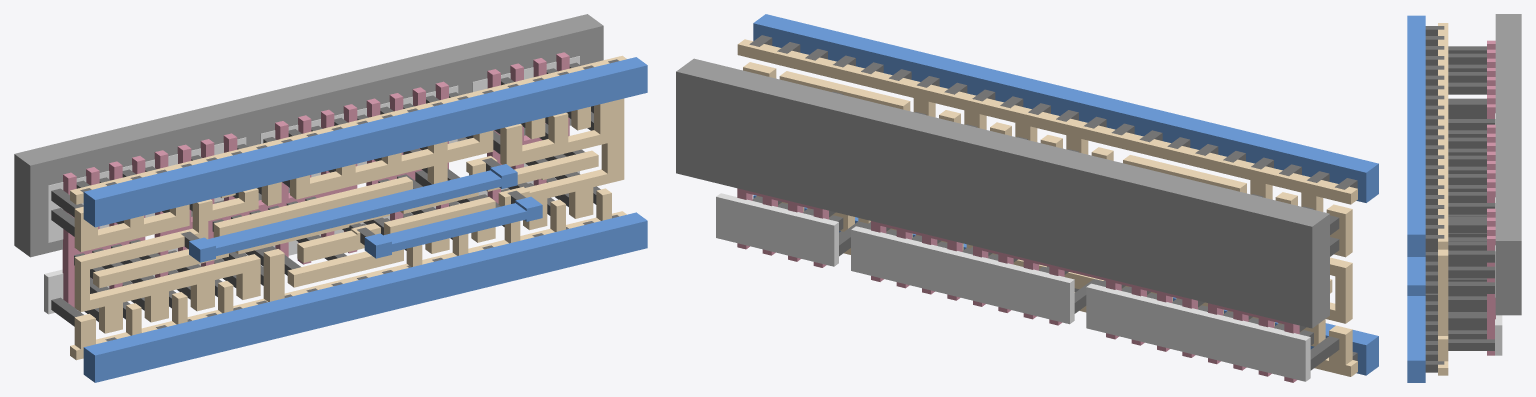
The model's file is sky130_fd_sc_hd__xor2_4.gds.gltf.
3 renders of one model, left to right at view 1: azimuth 30°, elevation 25°; view 2: azimuth 150°, elevation 25°; view 3: azimuth 270°, elevation 25°, orthographic. The views are drawn at different scales.
Visible parts, largest first — view 1: sky130_fd_sc_hd__xor2_4_met1, sky130_fd_sc_hd__xor2_4_li1, sky130_fd_sc_hd__xor2_4_nwell, sky130_fd_sc_hd__xor2_4_poly, sky130_fd_sc_hd__xor2_4_licon, sky130_fd_sc_hd__xor2_4_diff, sky130_fd_sc_hd__xor2_4_mcon; view 2: sky130_fd_sc_hd__xor2_4_nwell, sky130_fd_sc_hd__xor2_4_diff, sky130_fd_sc_hd__xor2_4_li1, sky130_fd_sc_hd__xor2_4_met1, sky130_fd_sc_hd__xor2_4_poly, sky130_fd_sc_hd__xor2_4_mcon, sky130_fd_sc_hd__xor2_4_licon; view 3: sky130_fd_sc_hd__xor2_4_licon, sky130_fd_sc_hd__xor2_4_nwell, sky130_fd_sc_hd__xor2_4_met1, sky130_fd_sc_hd__xor2_4_mcon, sky130_fd_sc_hd__xor2_4_li1, sky130_fd_sc_hd__xor2_4_poly, sky130_fd_sc_hd__xor2_4_diff.
Part boxes in pixels (<box>): sky130_fd_sc_hd__xor2_4_met1: <box>83,57,647,382</box>; sky130_fd_sc_hd__xor2_4_li1: <box>70,55,626,360</box>; sky130_fd_sc_hd__xor2_4_nwell: <box>14,14,603,257</box>; sky130_fd_sc_hd__xor2_4_poly: <box>62,52,569,307</box>; sky130_fd_sc_hd__xor2_4_licon: <box>51,62,600,326</box>; sky130_fd_sc_hd__xor2_4_diff: <box>44,56,579,314</box>; sky130_fd_sc_hd__xor2_4_mcon: <box>80,59,618,341</box>; sky130_fd_sc_hd__xor2_4_nwell: <box>676,58,1329,328</box>; sky130_fd_sc_hd__xor2_4_diff: <box>716,193,1310,381</box>; sky130_fd_sc_hd__xor2_4_li1: <box>737,39,1357,376</box>; sky130_fd_sc_hd__xor2_4_met1: <box>753,14,1378,375</box>; sky130_fd_sc_hd__xor2_4_poly: <box>737,188,1299,382</box>; sky130_fd_sc_hd__xor2_4_mcon: <box>749,35,1357,360</box>; sky130_fd_sc_hd__xor2_4_licon: <box>752,91,1339,370</box>; sky130_fd_sc_hd__xor2_4_licon: <box>1448,46,1494,350</box>; sky130_fd_sc_hd__xor2_4_nwell: <box>1495,14,1521,315</box>; sky130_fd_sc_hd__xor2_4_met1: <box>1407,15,1425,382</box>; sky130_fd_sc_hd__xor2_4_mcon: <box>1425,26,1444,372</box>; sky130_fd_sc_hd__xor2_4_li1: <box>1438,23,1448,375</box>; sky130_fd_sc_hd__xor2_4_poly: <box>1487,40,1495,355</box>; sky130_fd_sc_hd__xor2_4_diff: <box>1495,113,1502,355</box>.
Bounding box in the file's own units: 10.5 × 3.2 × 2.24.
